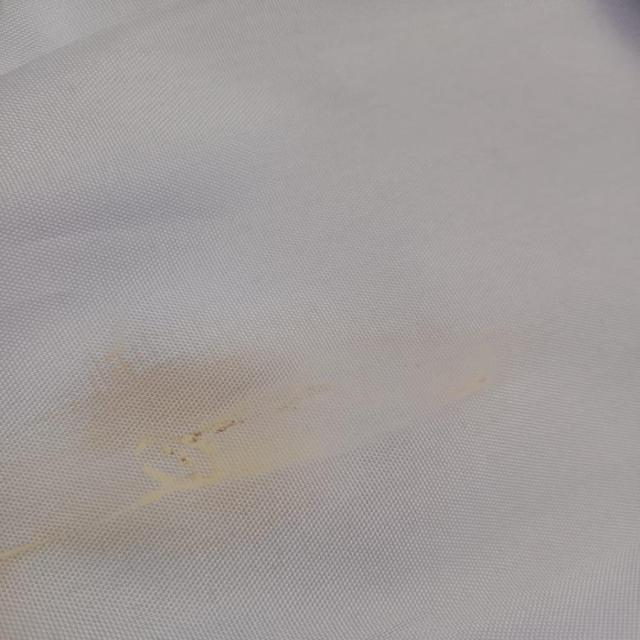stain: (51, 356, 345, 524)
